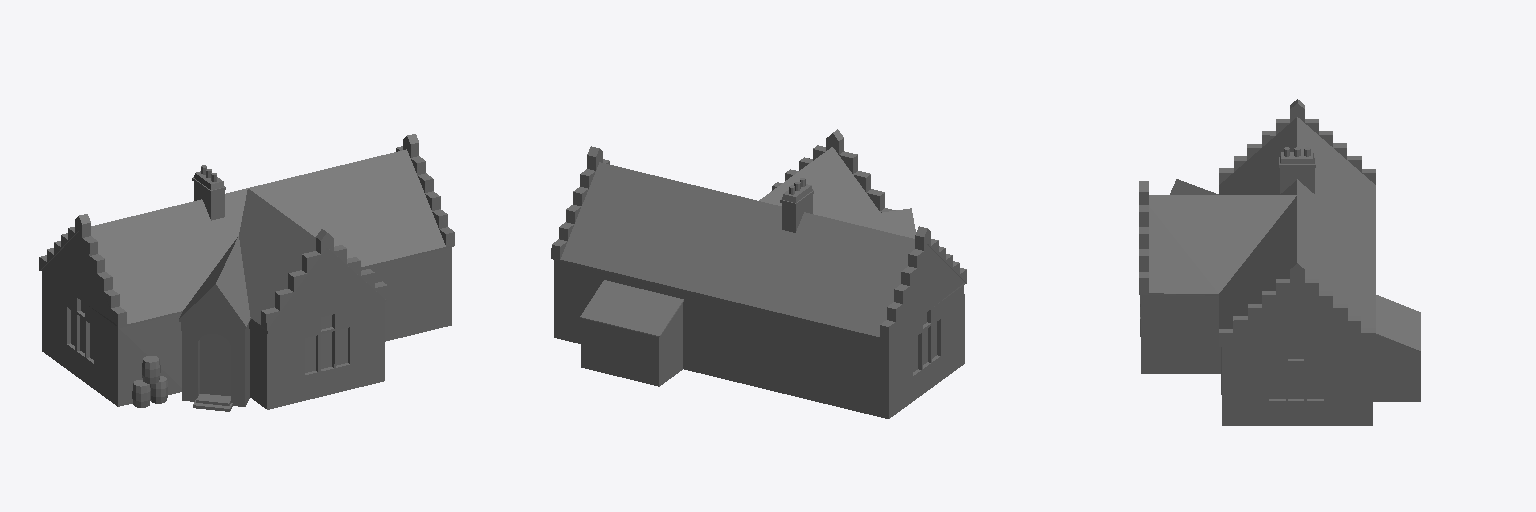
Rendered from house_obj.obj.
The picture shows the model from 3 angles: view 1: azimuth 30°, elevation 25°; view 2: azimuth 150°, elevation 25°; view 3: azimuth 270°, elevation 25°; orthographic projection.
Parts seen in each view (by area): view 1: House; view 2: House; view 3: House.
Boxes of the visible parts, x1,y1,x2,y2 form: House: [39, 134, 454, 411]; House: [551, 129, 966, 418]; House: [1139, 99, 1420, 425].
Bounding box in the file's own units: 3.54 × 1.78 × 2.57.